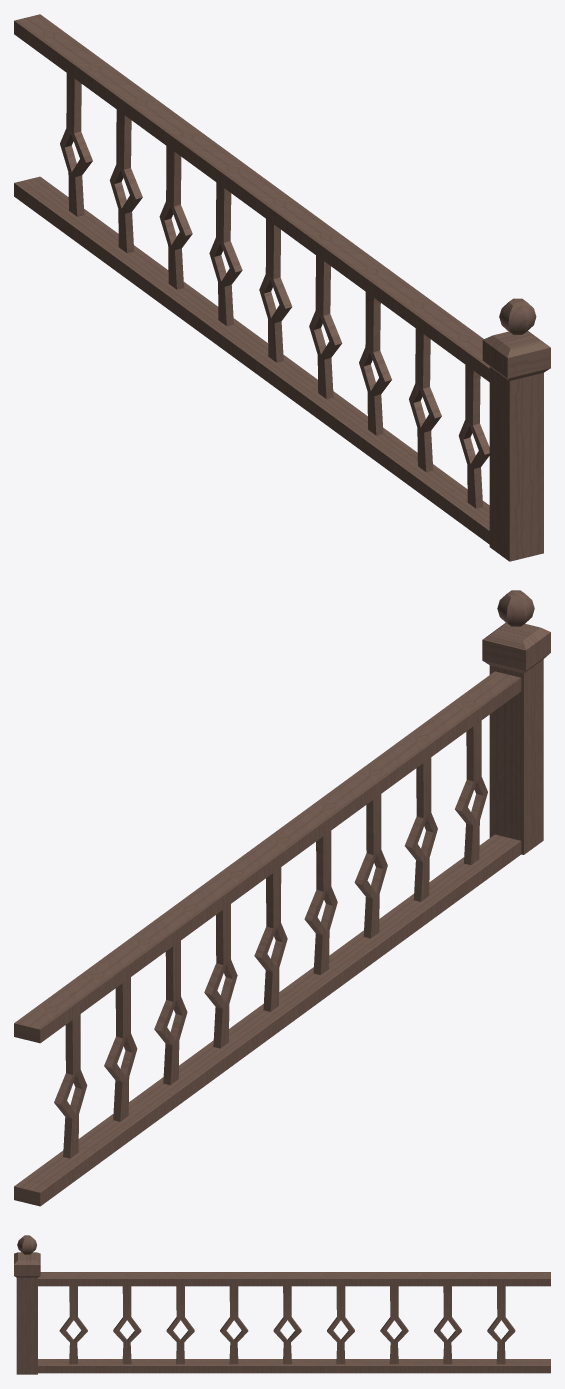
Rendered from Railing.fbx.
3 renders of one model, top to bottom at view 1: azimuth 30°, elevation 25°; view 2: azimuth 150°, elevation 25°; view 3: azimuth 270°, elevation 25°, orthographic. The views are drawn at different scales.
Parts seen in each view (by area): view 1: Cube.013; view 2: Cube.013; view 3: Cube.013.
Part boxes in pixels (bbox=[...]): Cube.013: bbox=[14, 14, 550, 561]; Cube.013: bbox=[14, 590, 550, 1206]; Cube.013: bbox=[14, 1235, 550, 1374].
Bounding box in the file's own units: 50.18 × 277 × 1005.
